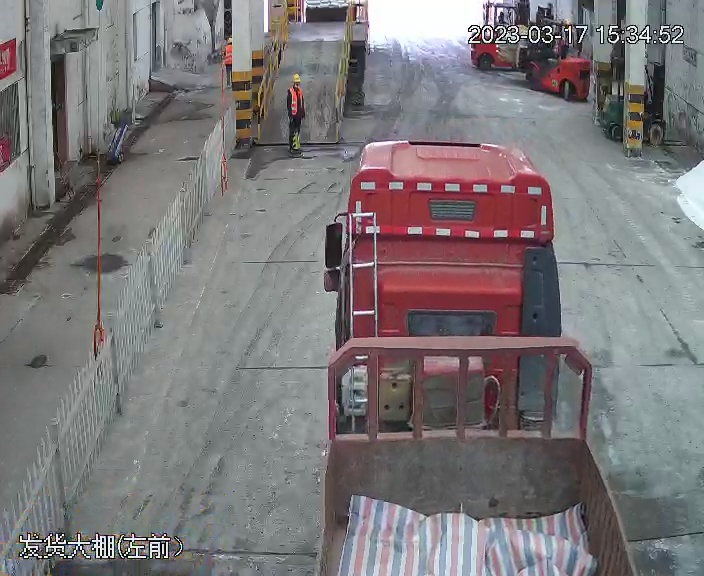head: (287, 73, 304, 98)
helmet: (291, 72, 301, 82)
truck: (316, 129, 606, 574)
